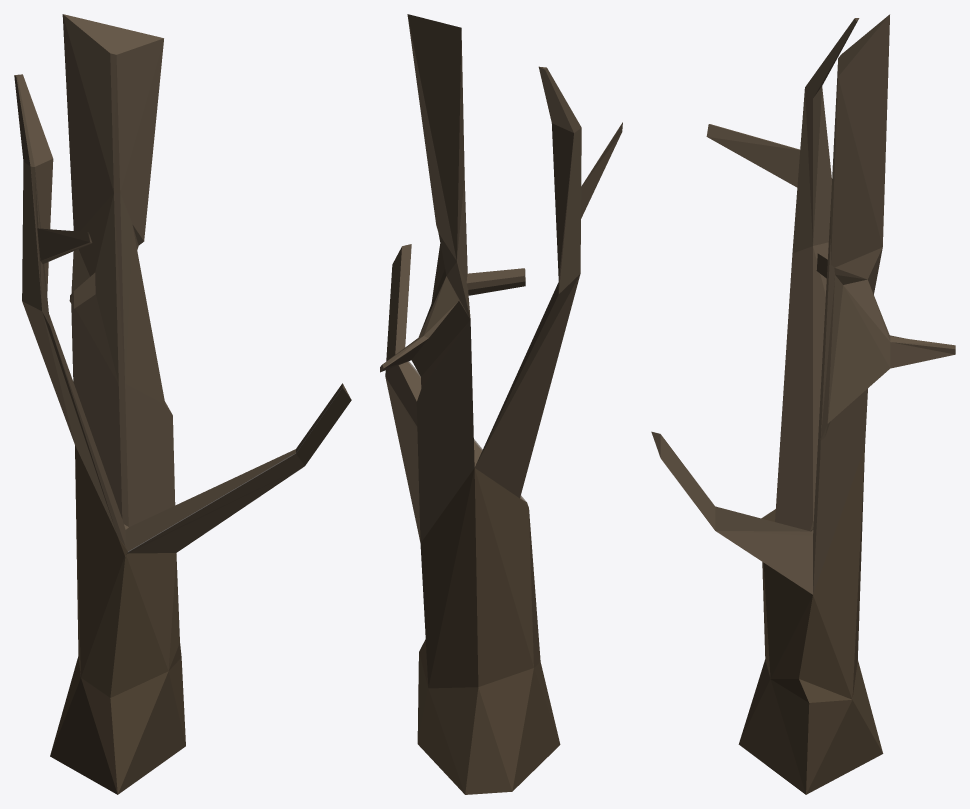
Rendered from Tree6.fbx.
3 views of the same model, side by side, from view 1: azimuth 30°, elevation 25°; view 2: azimuth 150°, elevation 25°; view 3: azimuth 270°, elevation 25° (orthographic). The views are drawn at different scales.
Visible parts, largest first — view 1: Tree6; view 2: Tree6; view 3: Tree6.
Part boxes in pixels (x1=…): Tree6: x1=14, y1=14, x2=351, y2=794; Tree6: x1=380, y1=14, x2=622, y2=794; Tree6: x1=651, y1=14, x2=955, y2=794.
Size of the model in its own units: 113 by 314 by 117.
